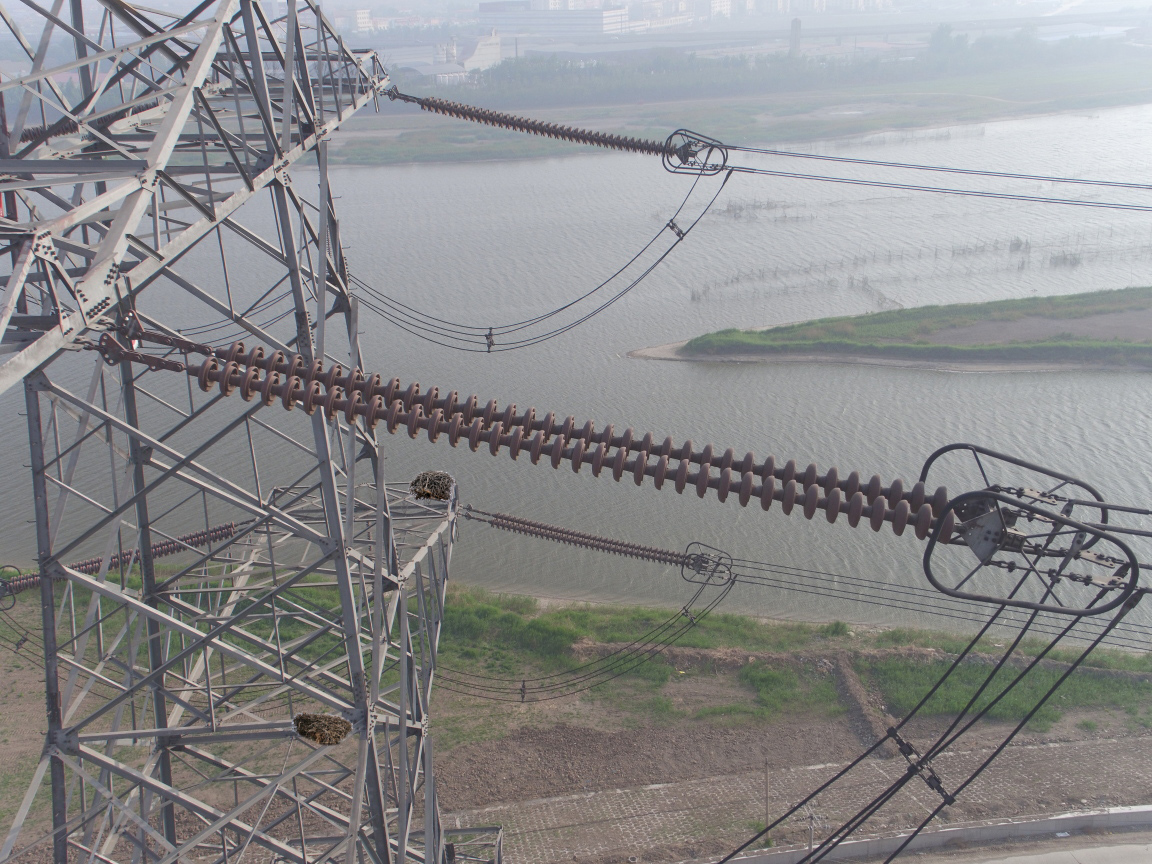nest: (288, 707, 352, 749), (409, 470, 455, 505)
